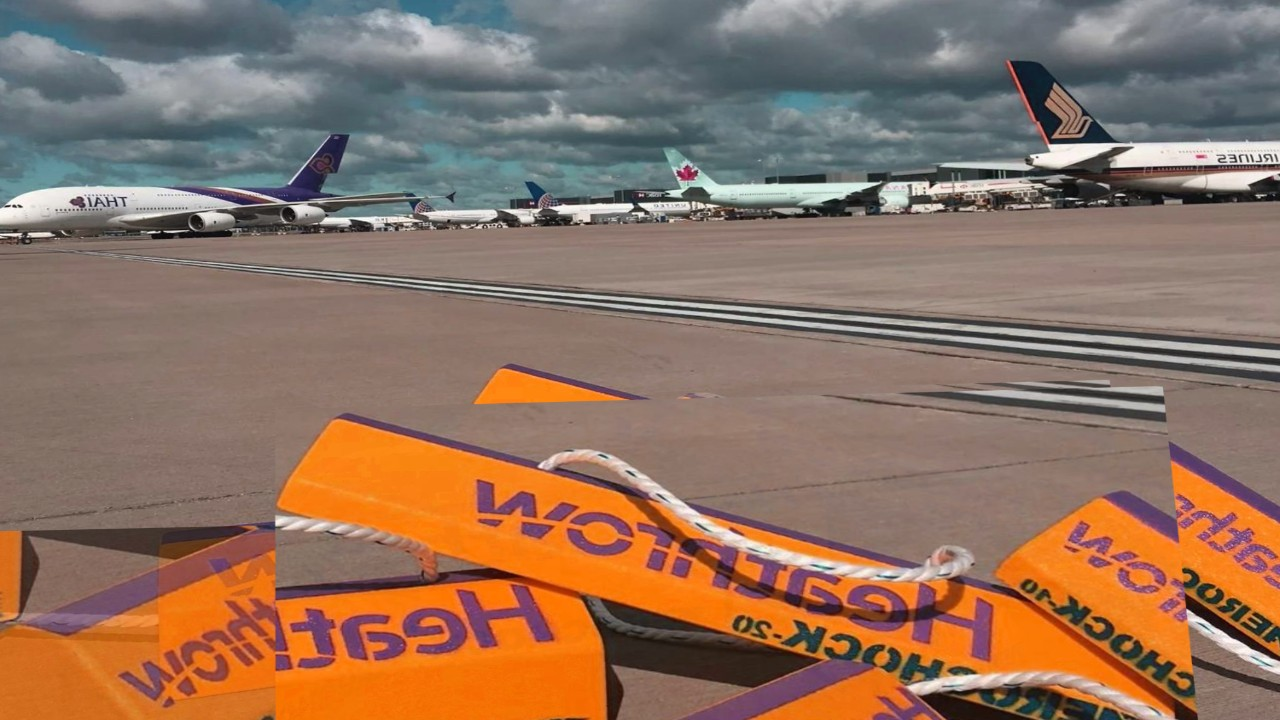chock: (275, 386, 1201, 720), (452, 341, 1200, 645), (153, 473, 735, 702), (652, 380, 1128, 572), (0, 522, 423, 720), (1027, 411, 1280, 672), (644, 555, 1043, 720)
